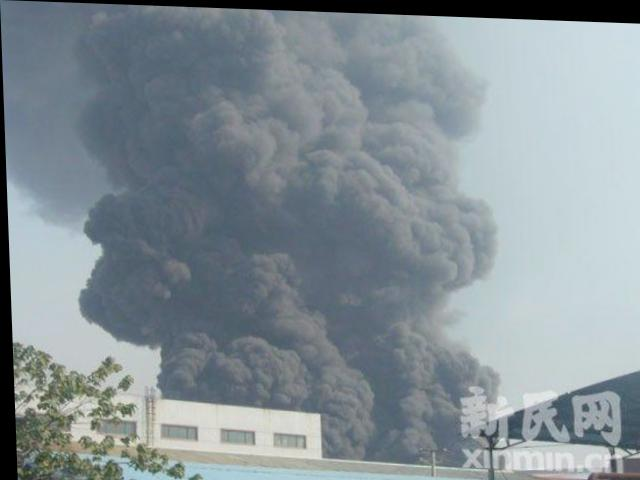smoke: (156, 7, 439, 385), (76, 9, 149, 170), (89, 200, 156, 326), (436, 201, 485, 272), (325, 388, 402, 433)
